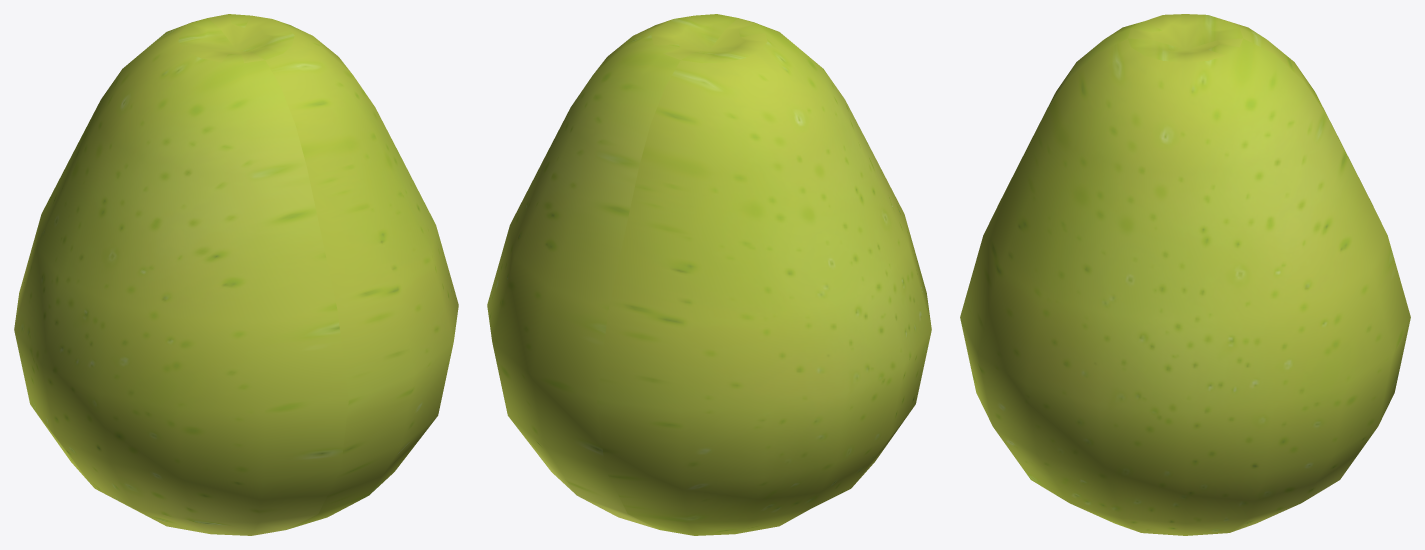
The model's file is guava.FBX.
3 views of the same model, side by side, from view 1: azimuth 30°, elevation 25°; view 2: azimuth 150°, elevation 25°; view 3: azimuth 270°, elevation 25° (orthographic).
Parts seen in each view (by area): view 1: Guava; view 2: Guava; view 3: Guava.
Boxes of the visible parts, x1,y1,x2,y2 form: Guava: [14, 14, 458, 535]; Guava: [487, 14, 931, 535]; Guava: [960, 14, 1410, 535].
Size of the model in its own units: 6.03 by 7.11 by 6.03.
